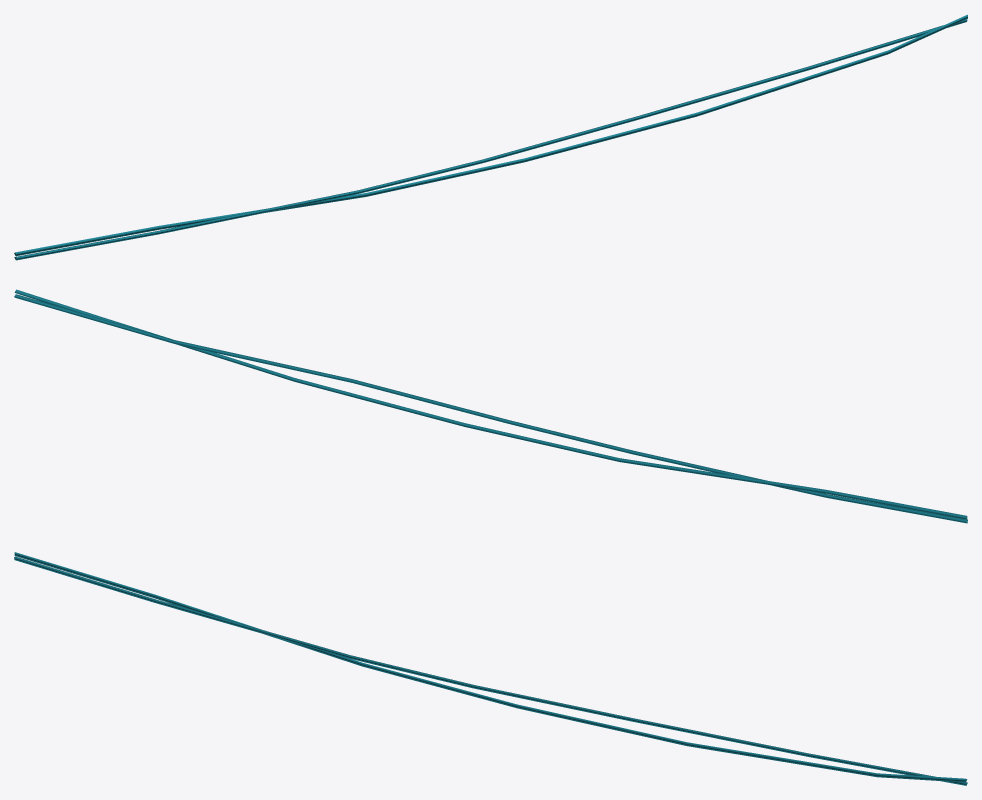
The model's file is Mesh_BackbroundProp_Cable_01.FBX.
3 views of the same model, one above another, from view 1: azimuth 30°, elevation 25°; view 2: azimuth 150°, elevation 25°; view 3: azimuth 330°, elevation 25° (orthographic).
Visible parts, largest first — view 1: Mesh_BackbroundProp_Cable_01; view 2: Mesh_BackbroundProp_Cable_01; view 3: Mesh_BackbroundProp_Cable_01.
Part boxes in pixels (x1,y1,x2,y2): Mesh_BackbroundProp_Cable_01: (14,14,967,260); Mesh_BackbroundProp_Cable_01: (14,289,967,523); Mesh_BackbroundProp_Cable_01: (14,552,967,785).
Size of the model in its own units: 1328 by 45.29 by 26.63.
